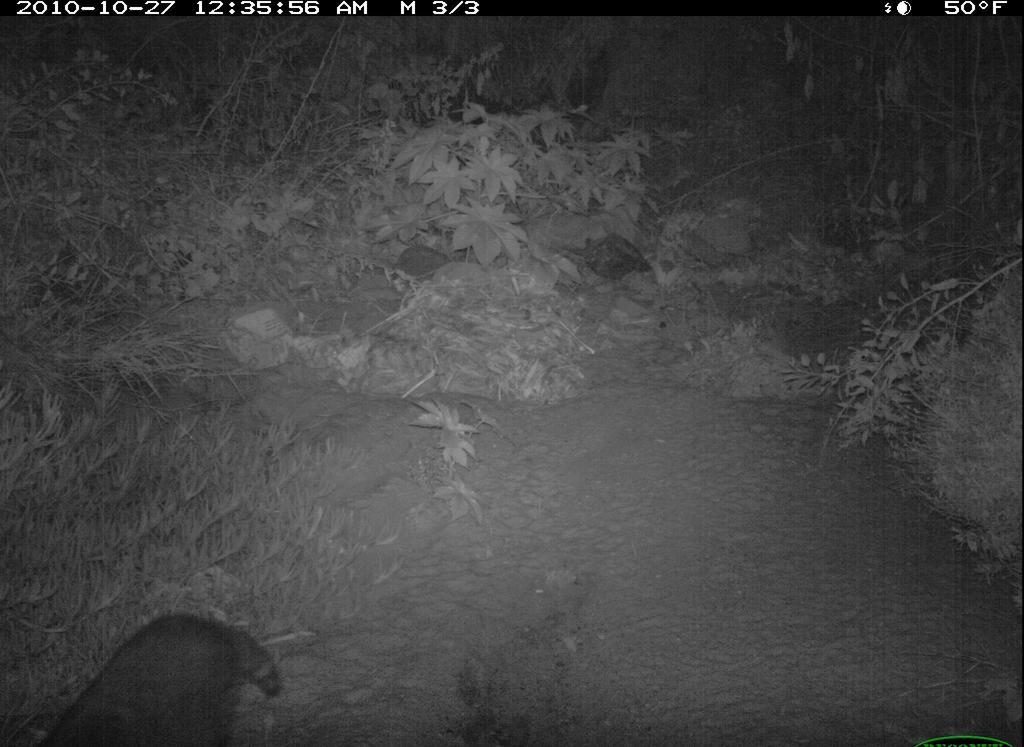raccoon: (39, 609, 287, 747)
